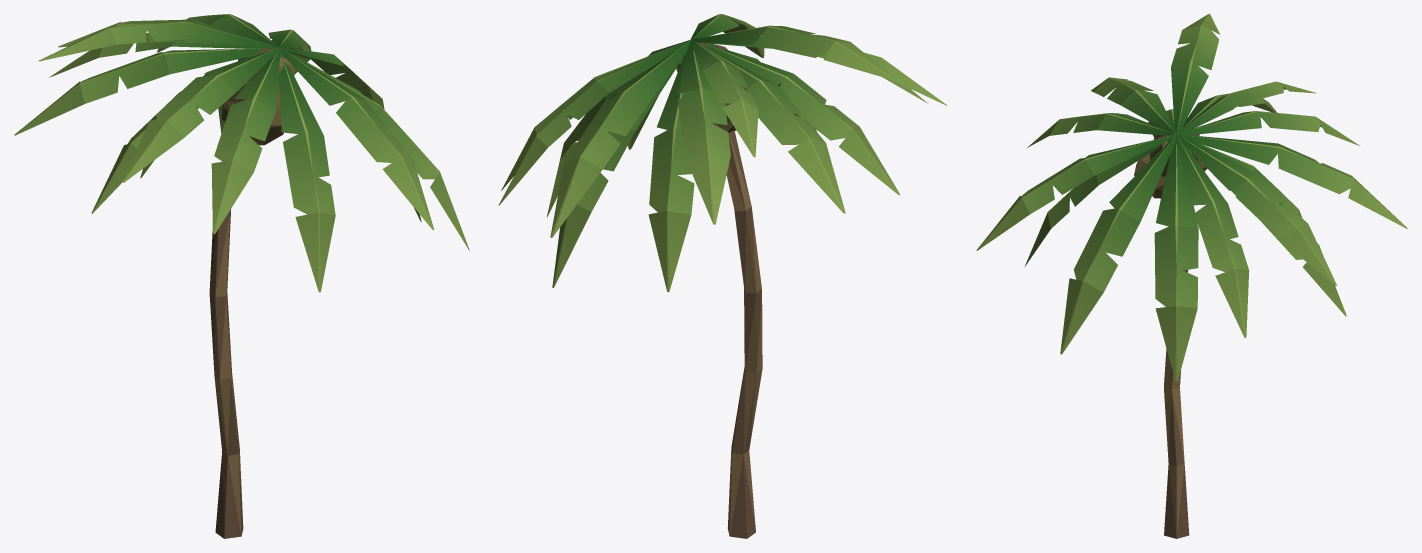
File: Tree_4.fbx
The picture shows the model from 3 angles, left to right: view 1: azimuth 30°, elevation 25°; view 2: azimuth 150°, elevation 25°; view 3: azimuth 270°, elevation 25°; orthographic projection. The views are drawn at different scales.
Parts seen in each view (by area): view 1: polySurface539; view 2: polySurface539; view 3: polySurface539.
Boxes of the visible parts, x1,y1,x2,y2 form: polySurface539: (14,14,469,538); polySurface539: (498,14,947,538); polySurface539: (976,14,1407,538).
Bounding box in the file's own units: 1123 × 1506 × 1271.
